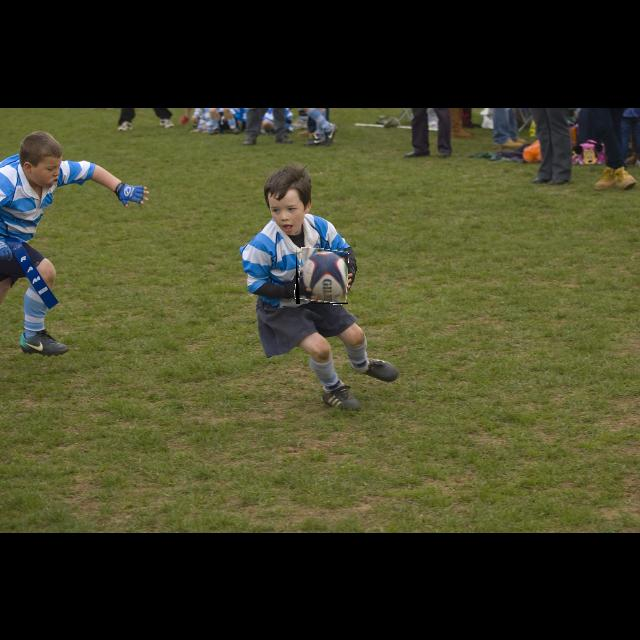Football: (296, 248, 348, 304)
